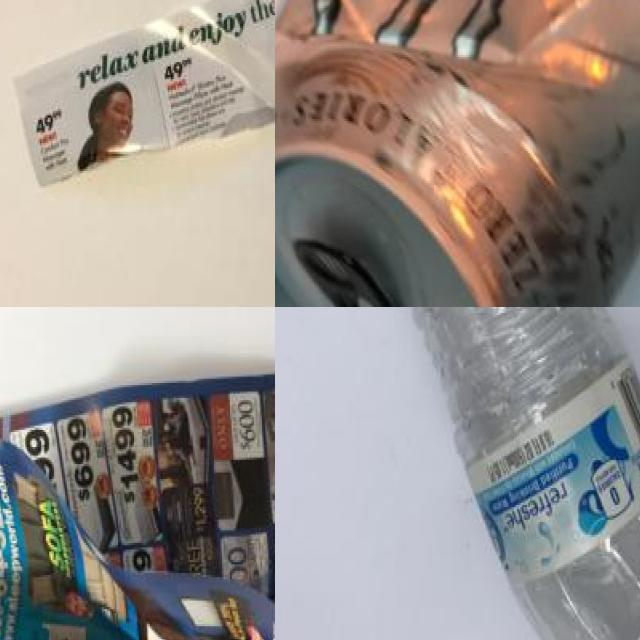paper: (0, 360, 275, 640), (23, 0, 275, 179)
plastic: (275, 0, 640, 307), (355, 307, 640, 640)
